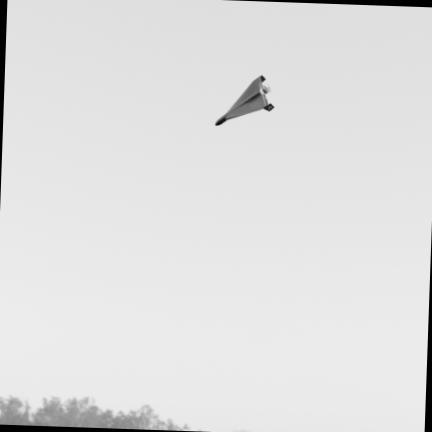Shahed: (216, 77, 274, 125)
